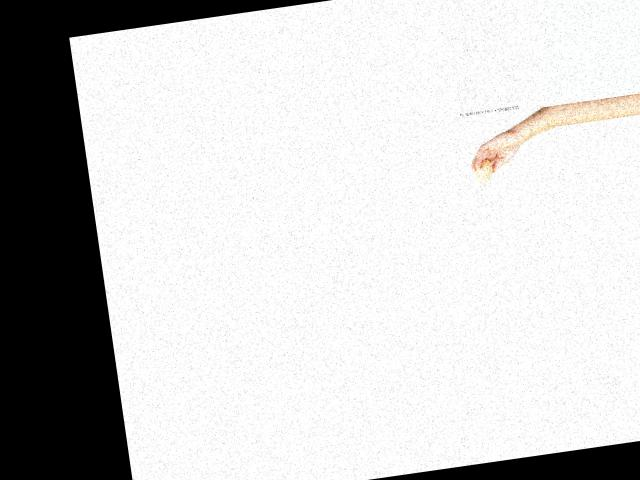egg: (474, 157, 494, 184)
